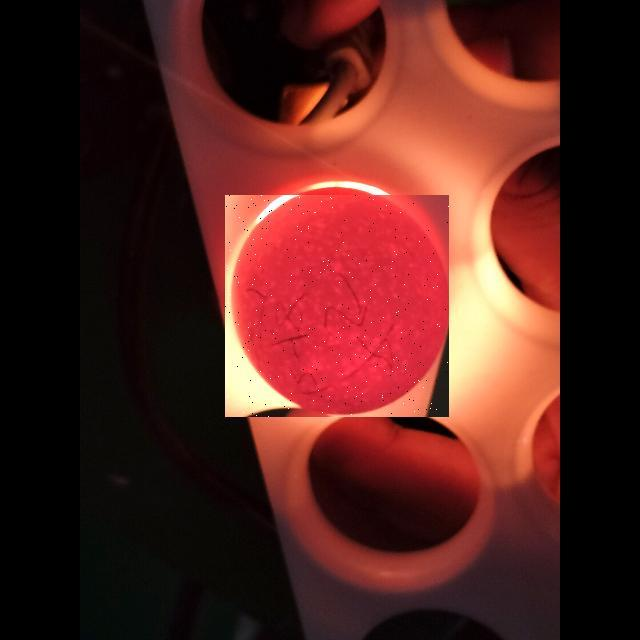Infertile: (225, 195, 449, 417)
